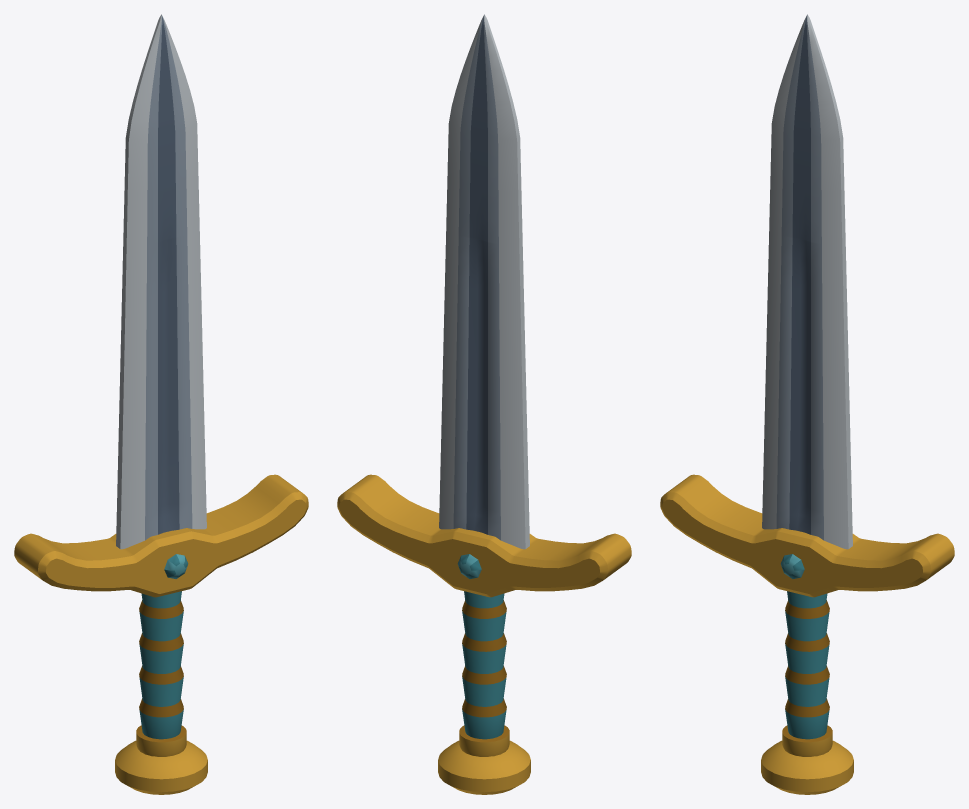
The model's file is Longsword_06.glb.
3 renders of one model, left to right at view 1: azimuth 30°, elevation 25°; view 2: azimuth 150°, elevation 25°; view 3: azimuth 330°, elevation 25°, orthographic.
Parts seen in each view (by area): view 1: Longsword_06; view 2: Longsword_06; view 3: Longsword_06.
Part boxes in pixels (x1,y1,x2,y2): Longsword_06: (14, 14, 308, 794); Longsword_06: (337, 14, 631, 794); Longsword_06: (660, 14, 954, 794).
Size of the model in its own units: 2.4 by 6.49 by 0.7124.
